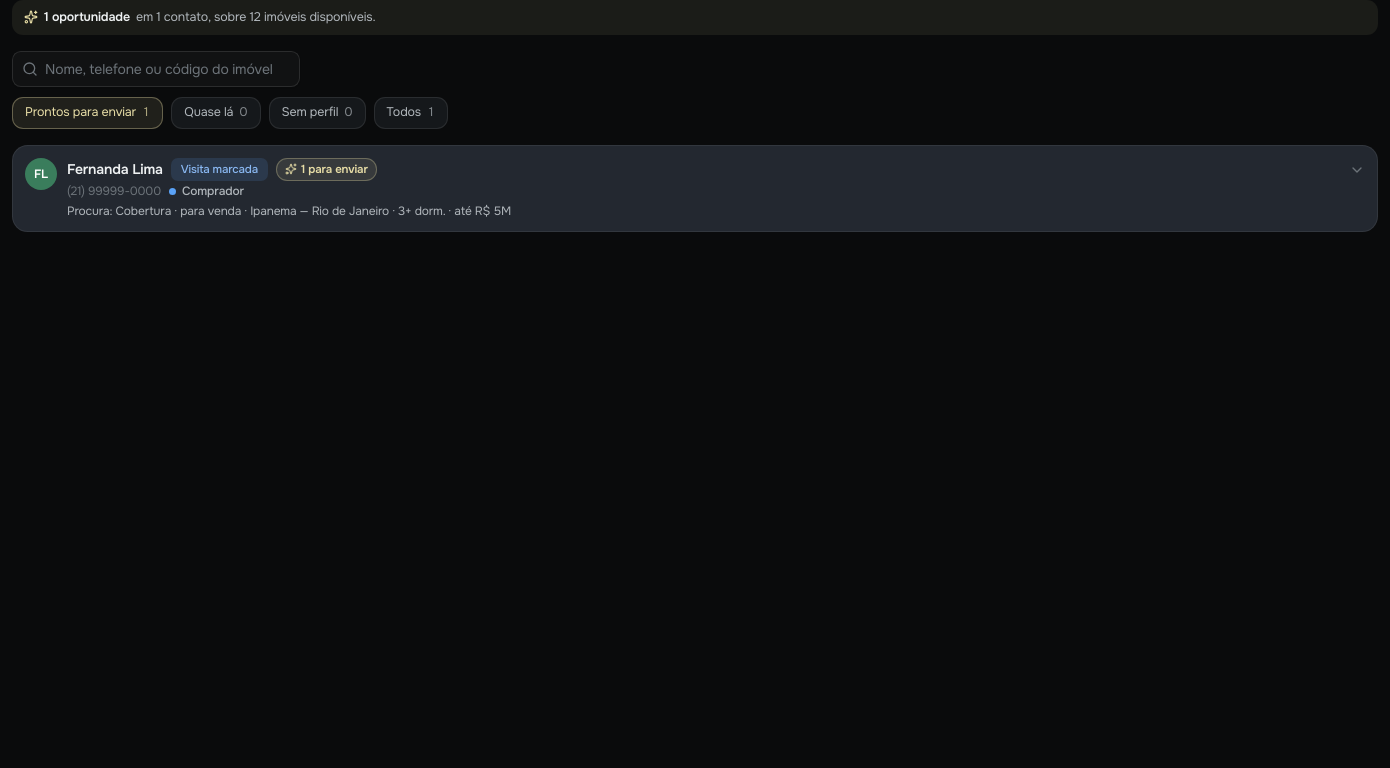
it: aba de Oportunidades › avisa antes de tentar enviar com a janela de 24h fechada
Click the text "Fernanda Lima". click: (115, 169)
box: [67,159,163,179]
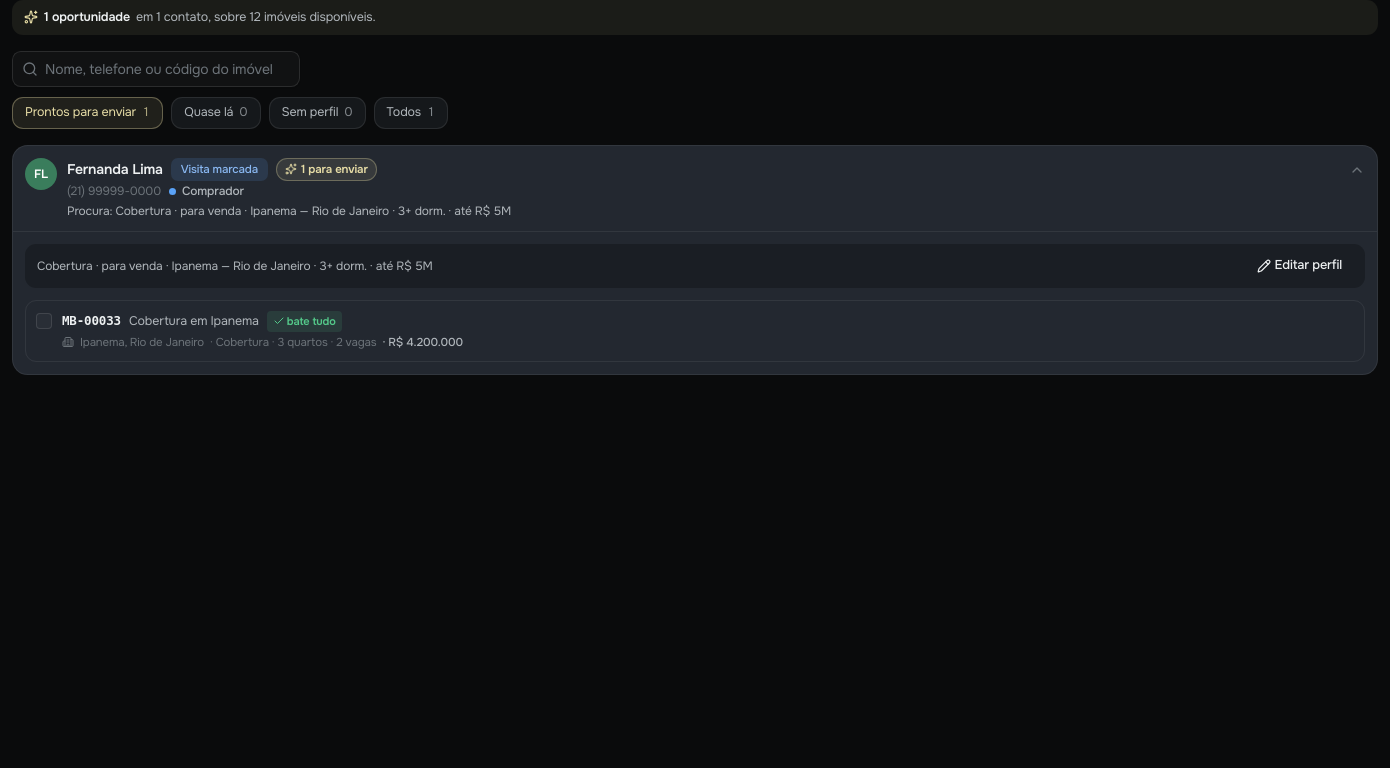
Click the checkbox named "Incluir MB-00033". click: (44, 321)
box: [36,313,52,329]
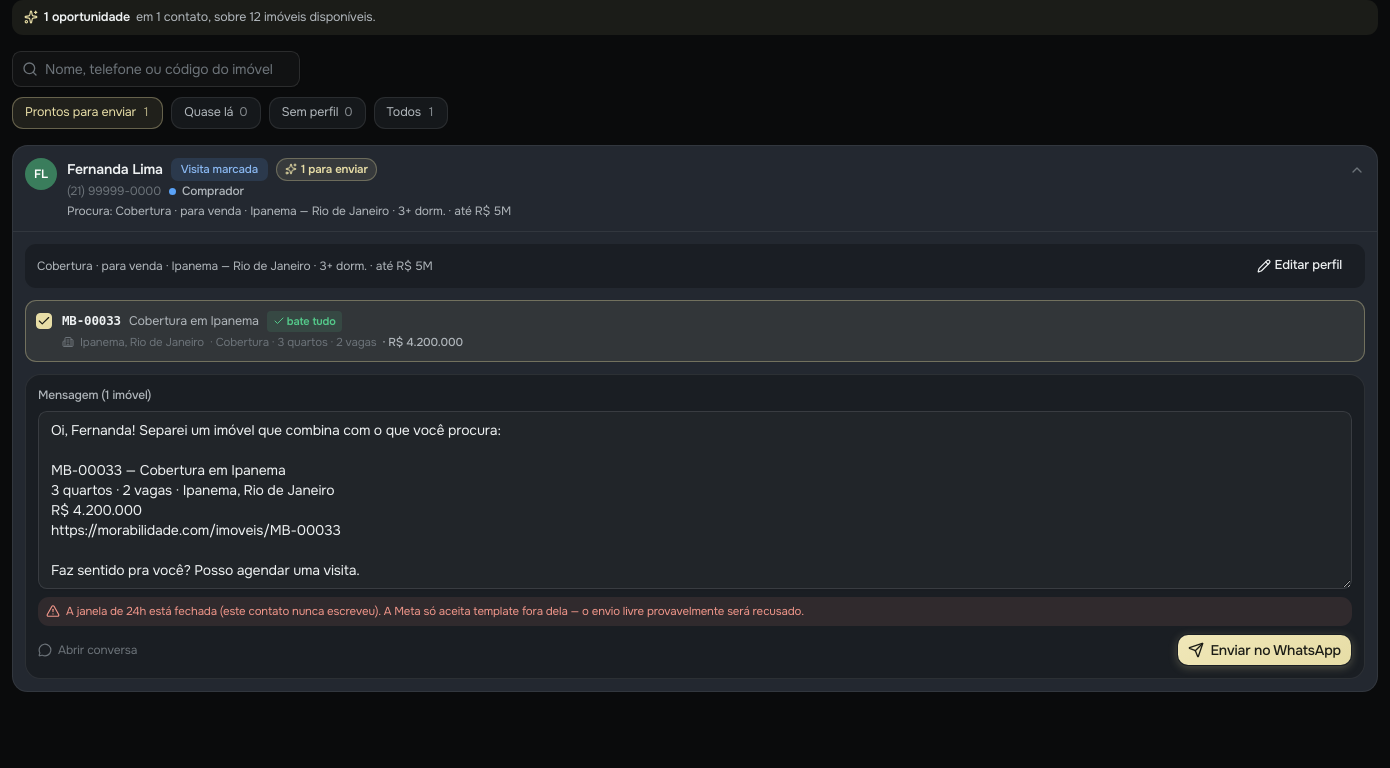
Check: the text "janela de 24h está fechada" is shown, box [66,604,217,619]
